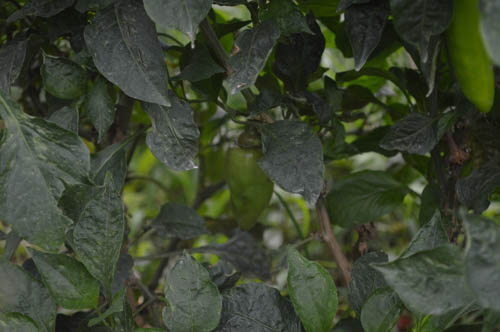ChiliPepper: (444, 6, 491, 114), (225, 147, 274, 233)
